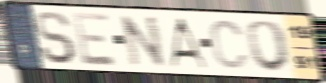A: (167, 16, 210, 71)
C: (209, 18, 251, 71)
E: (70, 10, 119, 68)
N: (118, 14, 168, 69)
O: (245, 19, 294, 74)
S: (33, 9, 78, 66)
